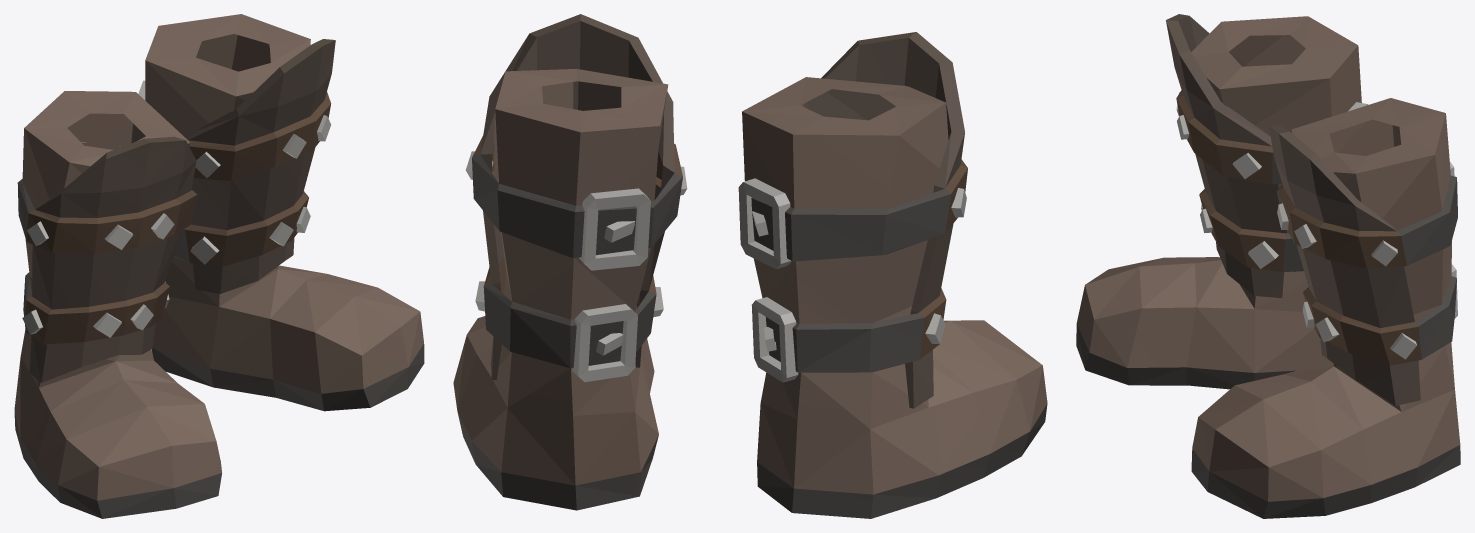
File: bootsLeatherGreavesDisplay.fbx
The picture shows the model from 3 angles, left to right: view 1: azimuth 30°, elevation 25°; view 2: azimuth 150°, elevation 25°; view 3: azimuth 270°, elevation 25°; orthographic projection. The views are drawn at different scales.
Parts seen in each view (by area): view 1: bootsLeatherGreavesDisplay; view 2: bootsLeatherGreavesDisplay; view 3: bootsLeatherGreavesDisplay.
Part boxes in pixels (left/top/right/bottom): bootsLeatherGreavesDisplay: left=14, top=14, right=424, bottom=518; bootsLeatherGreavesDisplay: left=453, top=14, right=1047, bottom=518; bootsLeatherGreavesDisplay: left=1076, top=14, right=1460, bottom=518.
Bounding box in the file's own units: 1.6 × 1.24 × 1.26.
